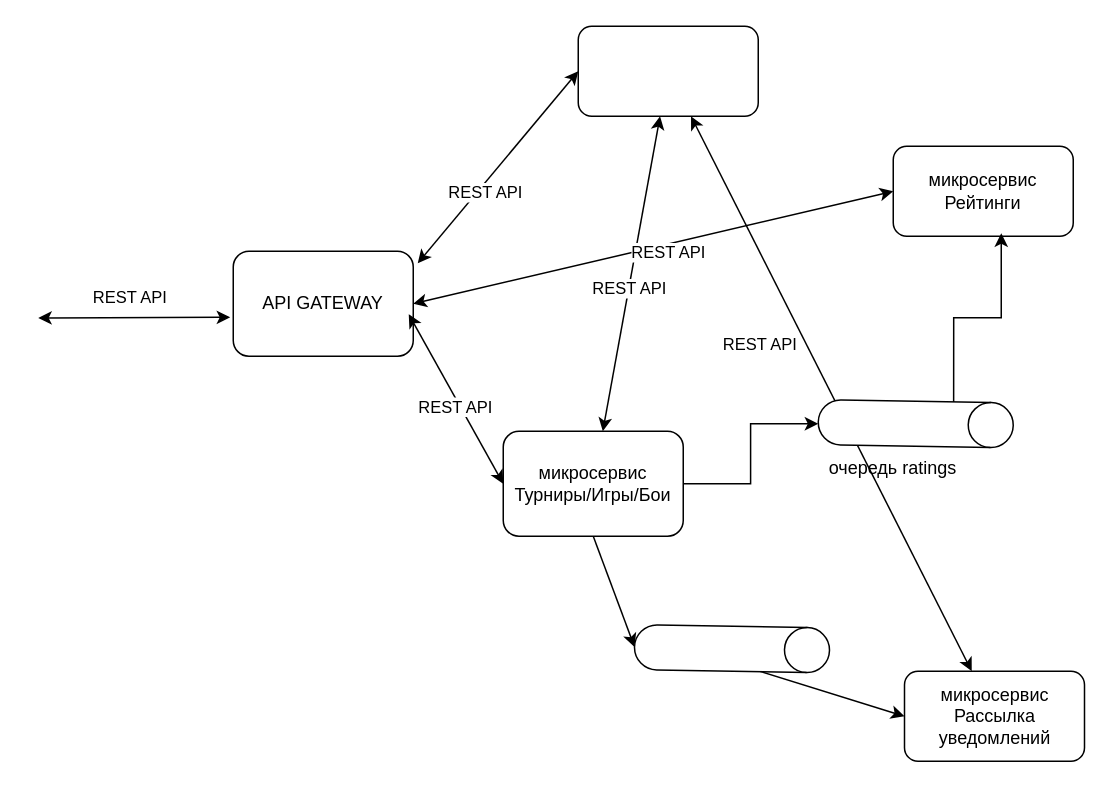
Image size: 1112x788. Some labels were removed from this diagram. Here are the shapes that lost their labels. From the top down, the centre of each, then its label:
(667,70): микросервис Пользователи
(731,648): очередь notifications
